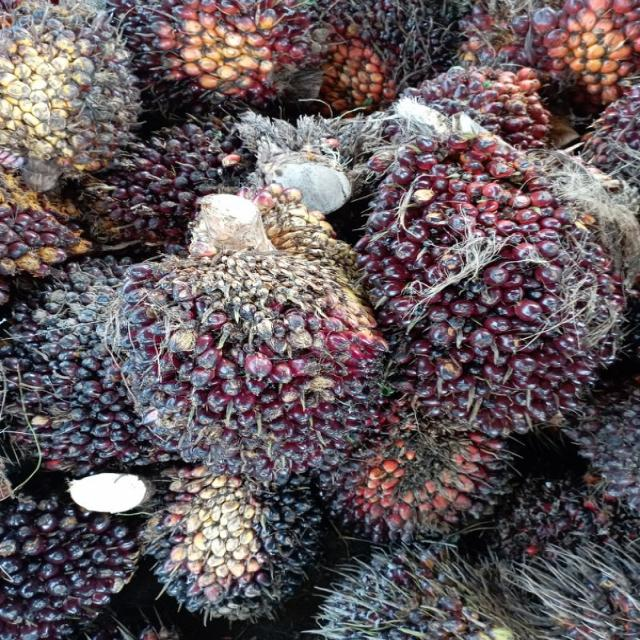fraksi 1: (341, 127, 621, 437), (117, 202, 397, 504)
